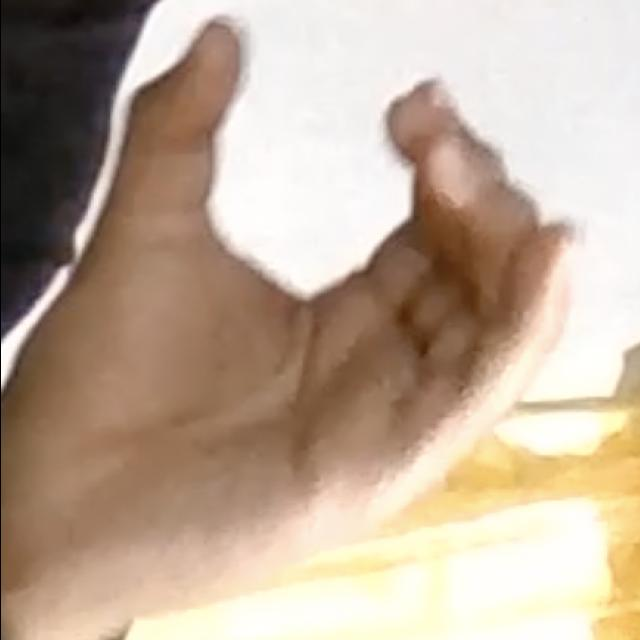C: (0, 8, 589, 634)
